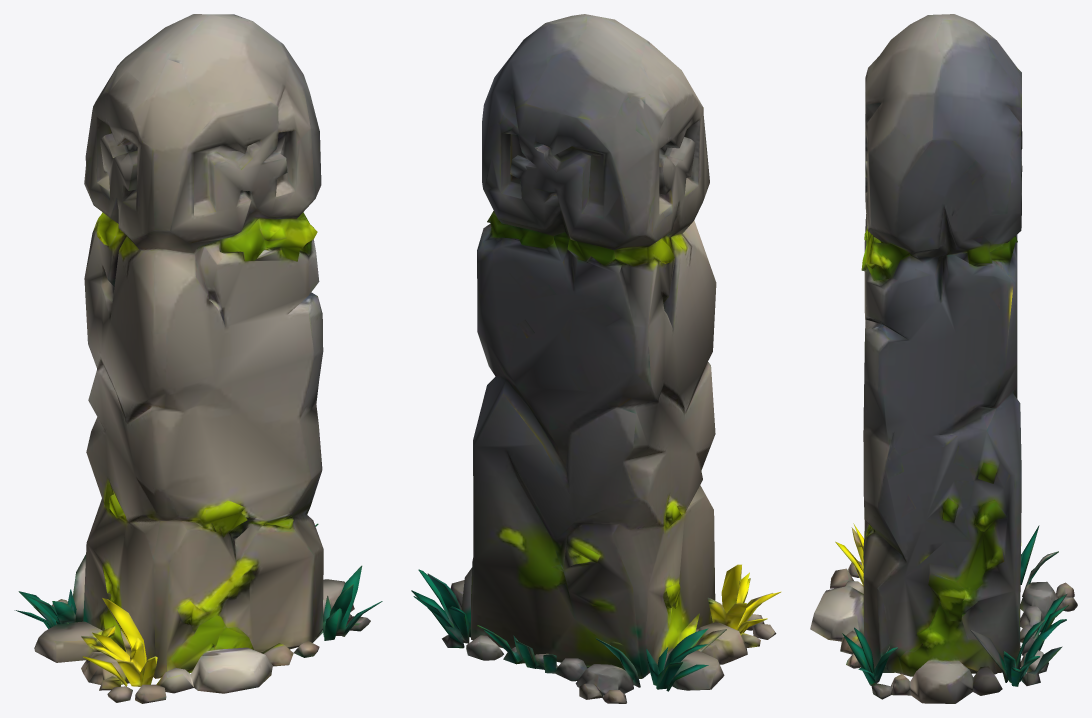
The model's file is milestone-a.glb.
3 renders of one model, left to right at view 1: azimuth 30°, elevation 25°; view 2: azimuth 150°, elevation 25°; view 3: azimuth 270°, elevation 25°, orthographic.
Visible parts, largest first — view 1: node_0; view 2: node_0; view 3: node_0.
Part boxes in pixels (x1=…): node_0: x1=14, y1=14, x2=382, y2=703; node_0: x1=411, y1=14, x2=781, y2=703; node_0: x1=810, y1=14, x2=1077, y2=703.
Bounding box in the file's own units: 0.5566 × 1.1 × 0.4314.
Materials: 1 (1 with a texture image).
